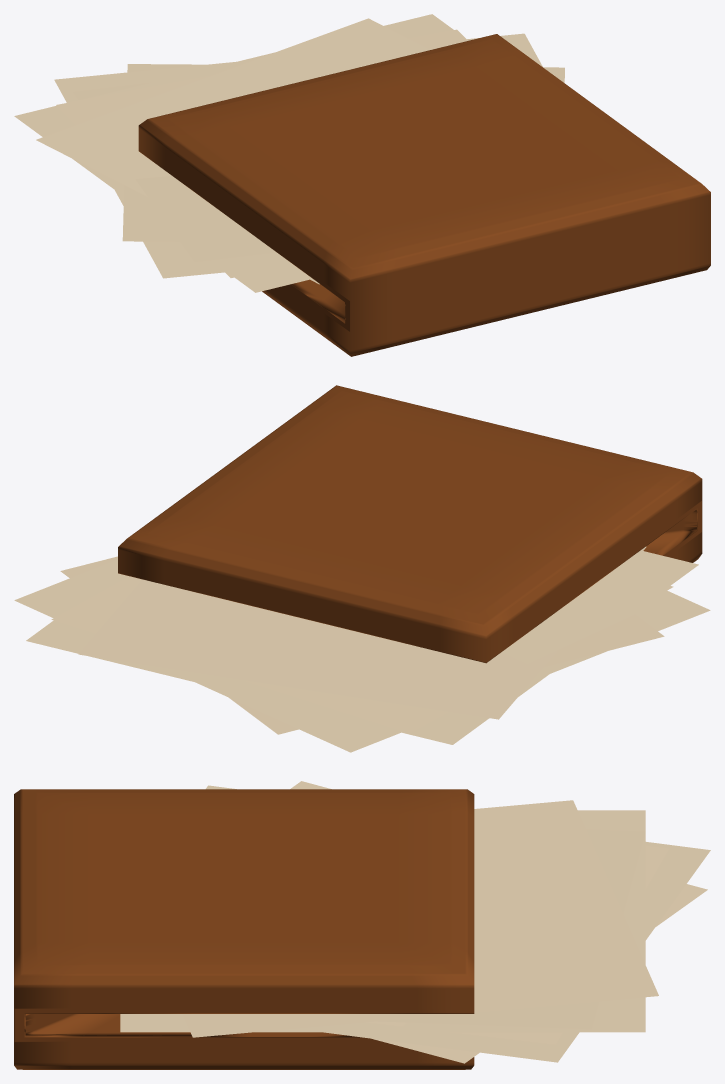
File: Book.fbx
3 renders of one model, top to bottom at view 1: azimuth 30°, elevation 25°; view 2: azimuth 150°, elevation 25°; view 3: azimuth 270°, elevation 25°, orthographic. The views are drawn at different scales.
Parts seen in each view (by area): view 1: Book; view 2: Book; view 3: Book.
Boxes of the visible parts, <box> form: Book: <box>14,14,710,356</box>; Book: <box>14,385,710,752</box>; Book: <box>14,781,710,1069</box>.
Size of the model in its own units: 1.87 by 1.99 by 0.32.
